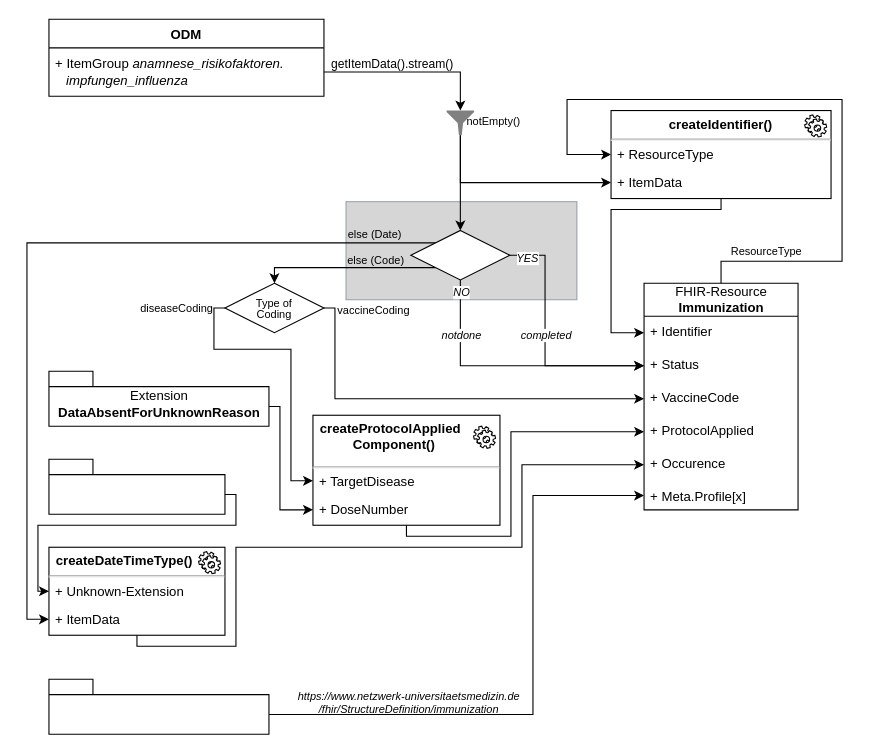
Image size: 870x754. Some labels were removed from this diagram. Here are the shapes that lost their labels. From the top down, the centre of each, then its label:
(460,254): getCode()
(136,486): Extension UnknownDateTime
(158,706): GECCO Profiles
